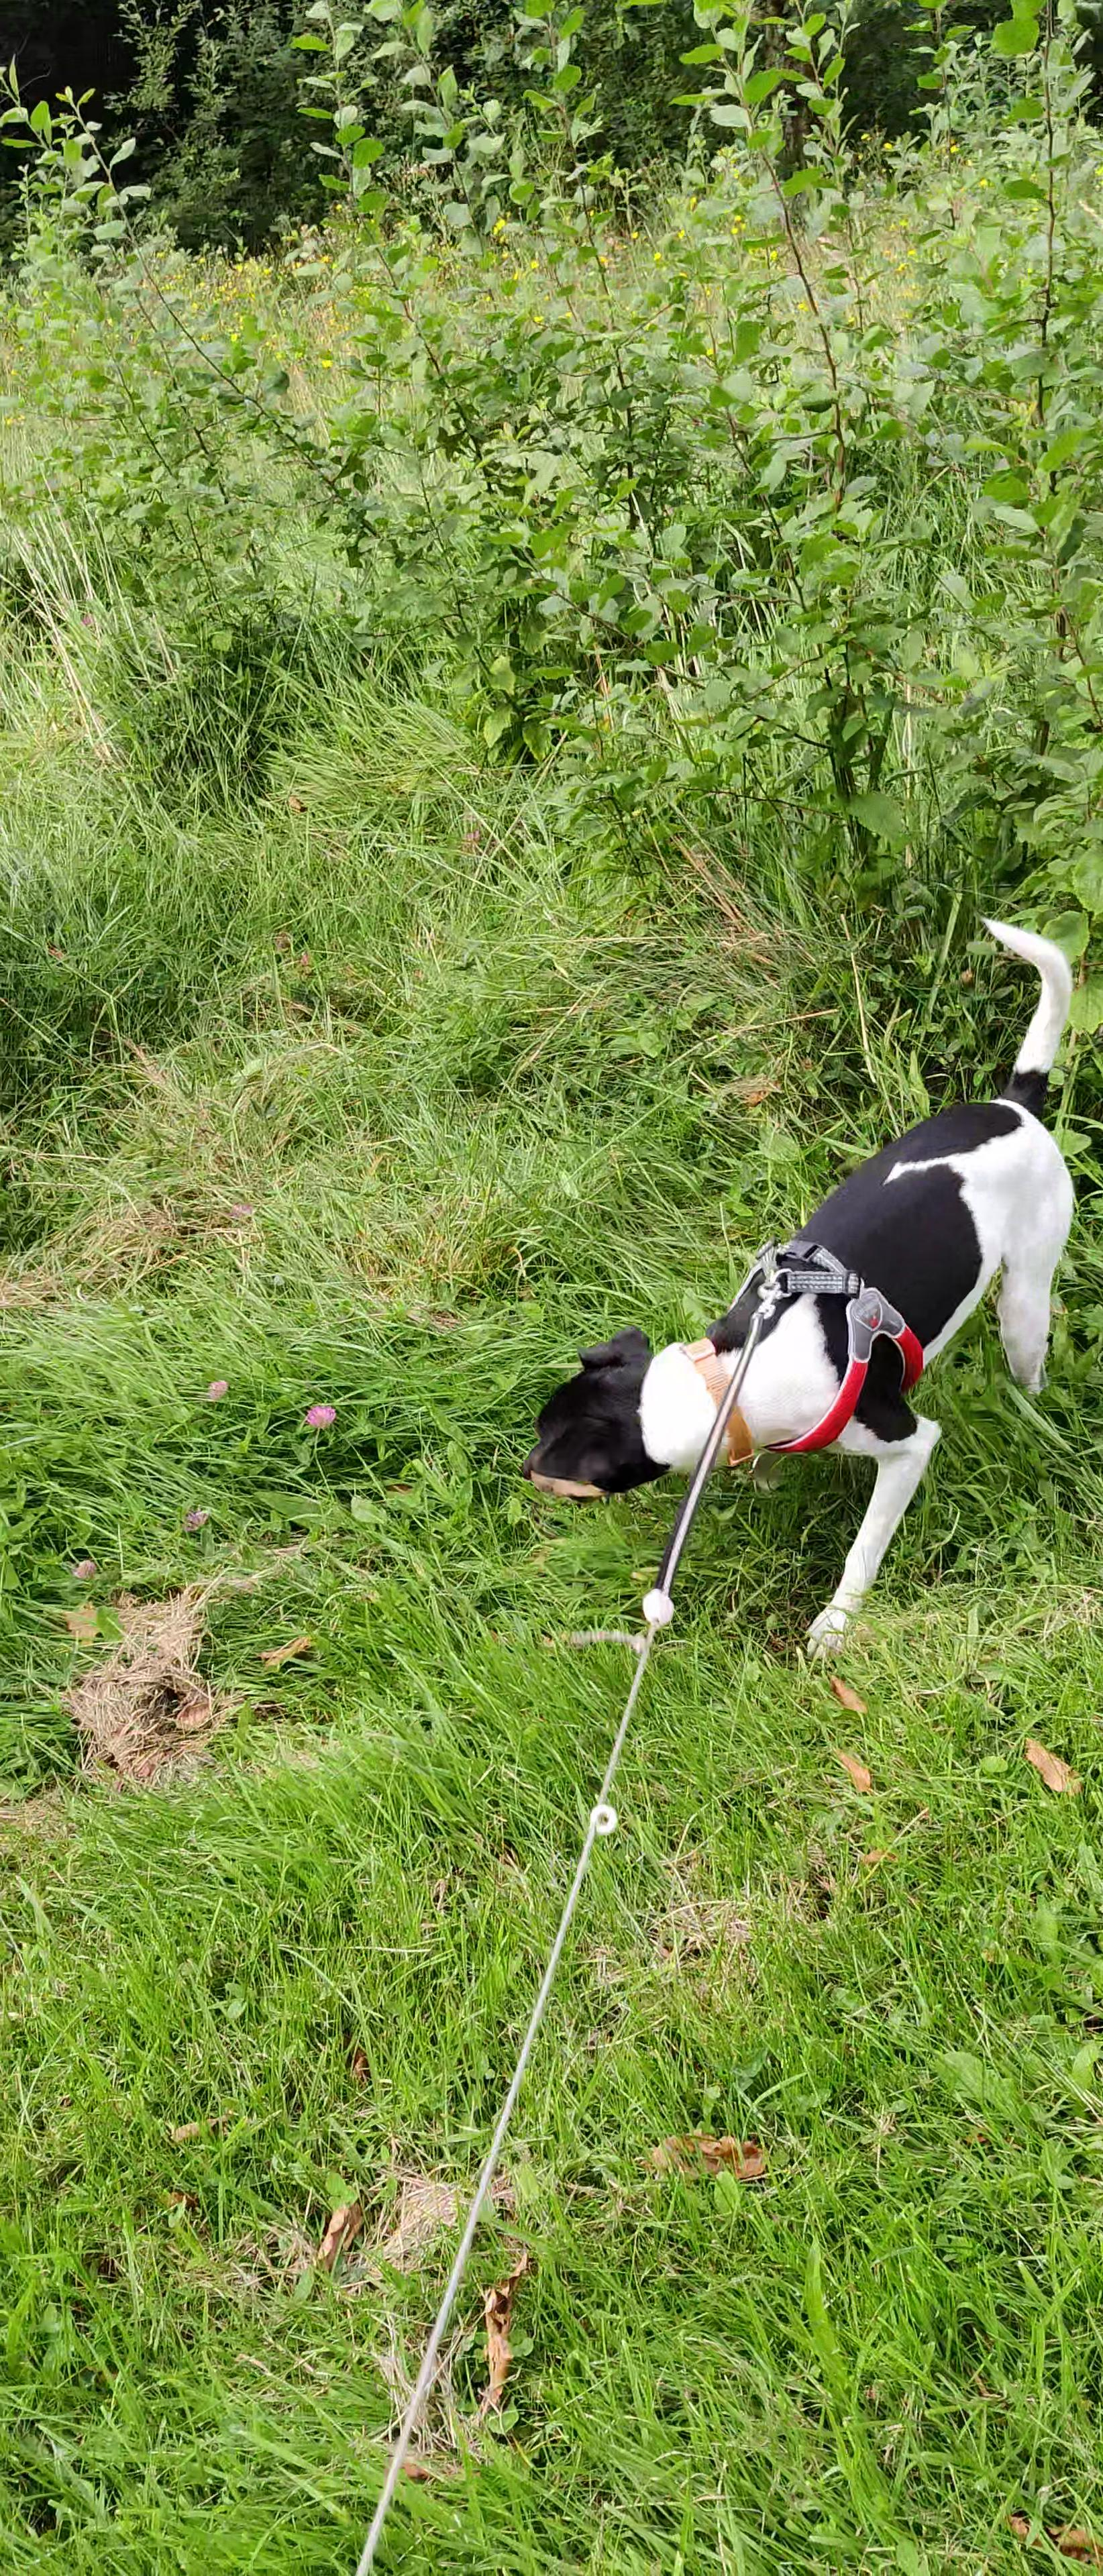Dog: (515, 912, 1080, 1667)
